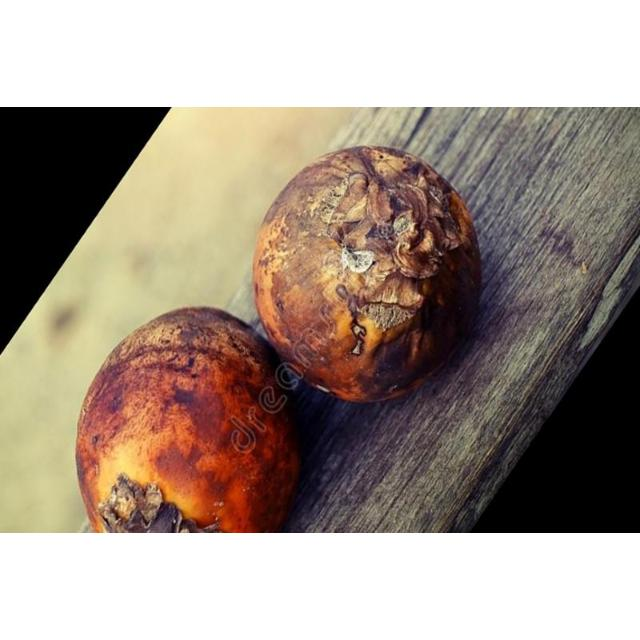damaged: (253, 146, 480, 401), (77, 308, 298, 533)
